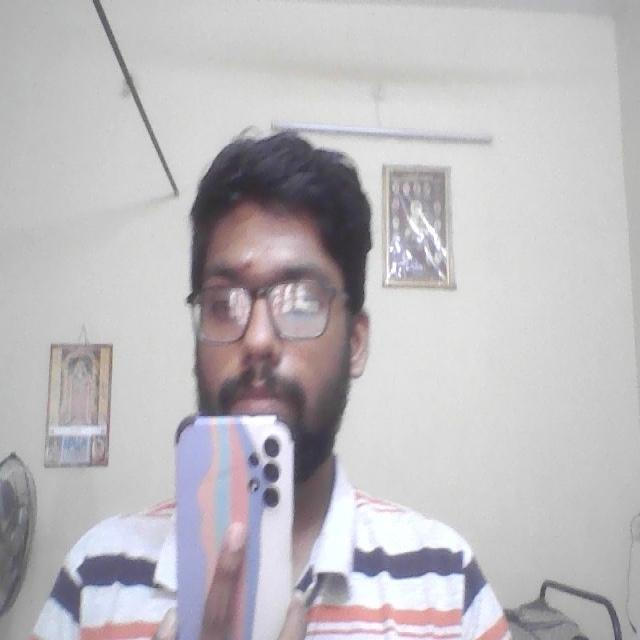Mobile: (168, 416, 296, 640)
